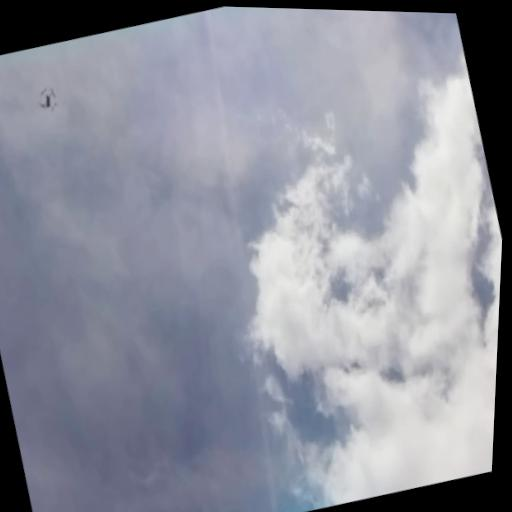drones: (30, 77, 64, 118)
